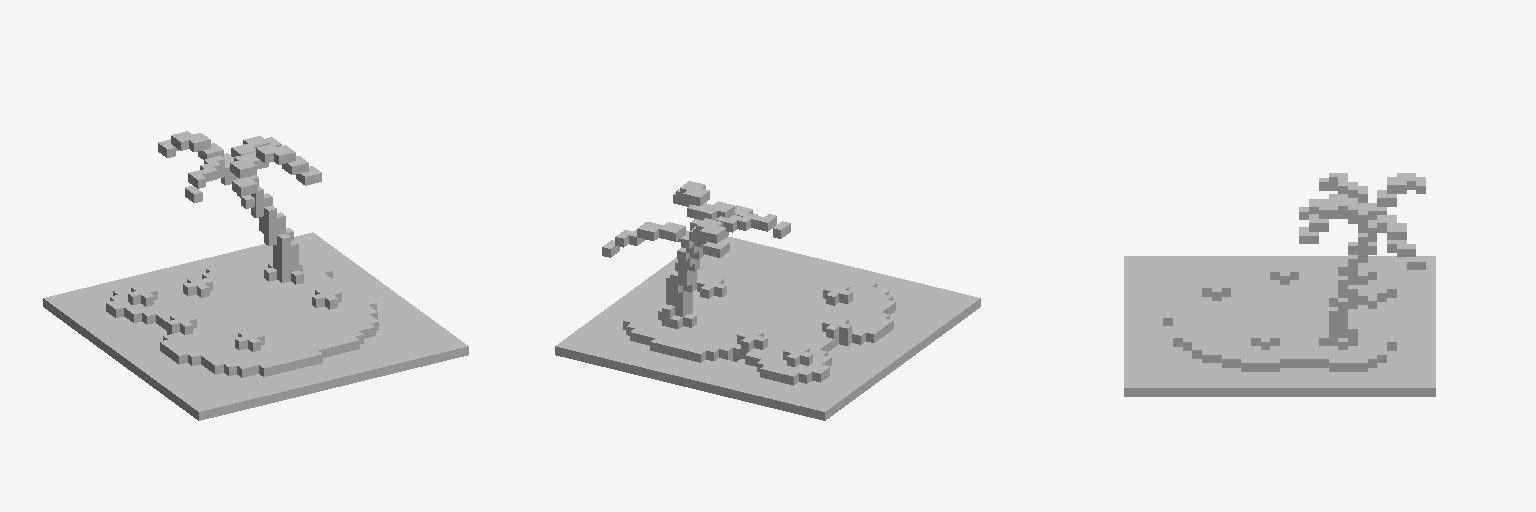
File: palm.obj
The picture shows the model from 3 angles: view 1: azimuth 30°, elevation 25°; view 2: azimuth 150°, elevation 25°; view 3: azimuth 270°, elevation 25°; orthographic projection.
Visible parts, largest first — view 1: object 1; view 2: object 1; view 3: object 1.
Part boxes in pixels (left/top/right/bottom): object 1: left=43, top=131, right=468, bottom=420; object 1: left=555, top=181, right=980, bottom=420; object 1: left=1124, top=173, right=1435, bottom=396.
Bounding box in the file's own units: 3.2 × 1.7 × 3.2.